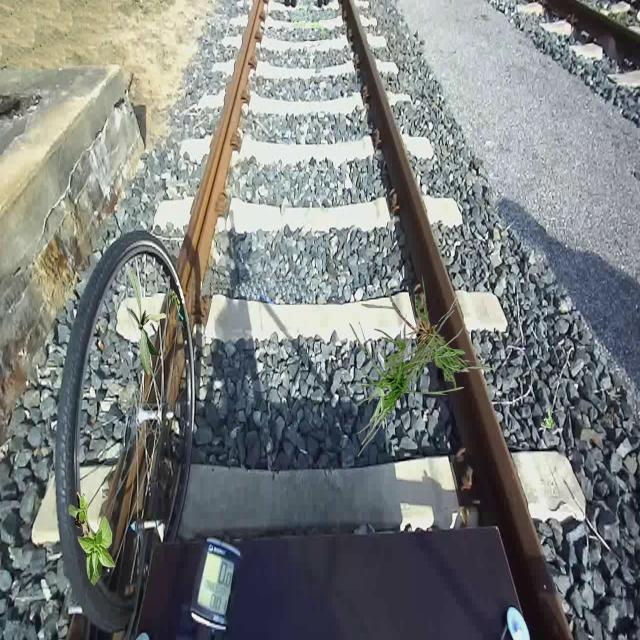Plant: (347, 293, 466, 457), (361, 273, 504, 392), (68, 491, 116, 586), (127, 267, 167, 377), (368, 374, 394, 431), (541, 408, 555, 428)
